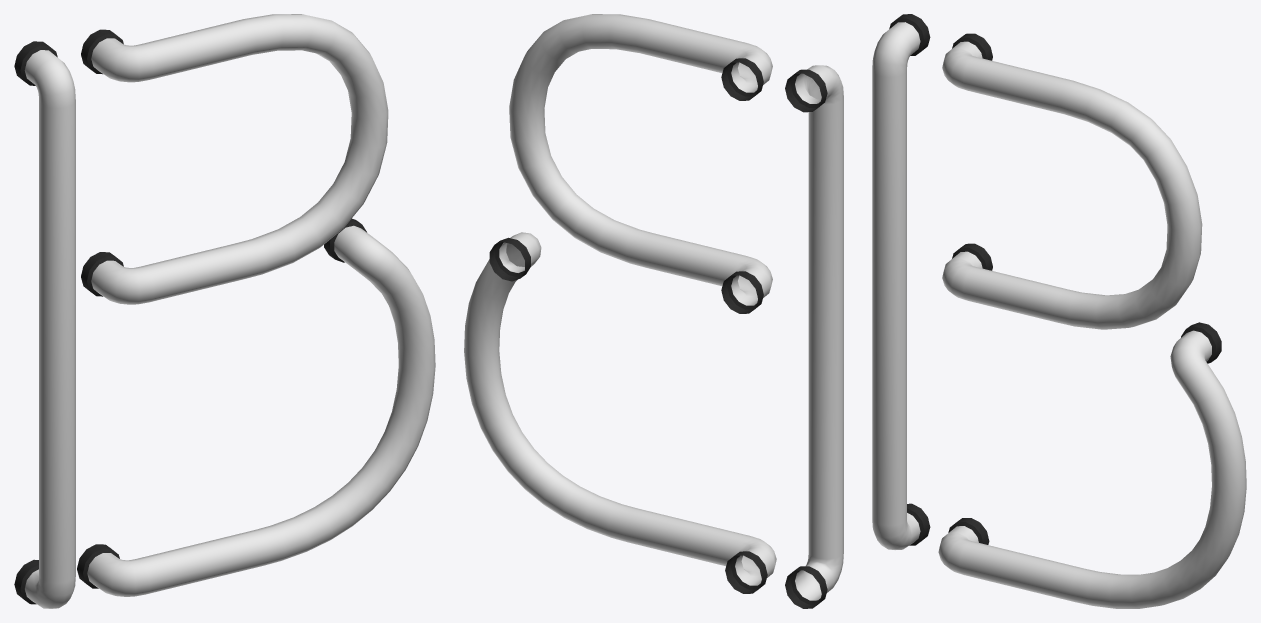
The model's file is LettersNeon01_B.FBX.
3 renders of one model, left to right at view 1: azimuth 30°, elevation 25°; view 2: azimuth 150°, elevation 25°; view 3: azimuth 330°, elevation 25°, orthographic. The views are drawn at different scales.
Parts seen in each view (by area): view 1: LettersNeon01_B; view 2: LettersNeon01_B; view 3: LettersNeon01_B.
Part boxes in pixels (x1,y1,x2,y2): LettersNeon01_B: (14, 14, 435, 608); LettersNeon01_B: (464, 14, 843, 608); LettersNeon01_B: (872, 14, 1246, 608).
Size of what is drawn, in the model's own units: 0.3721 by 0.503 by 0.054.
